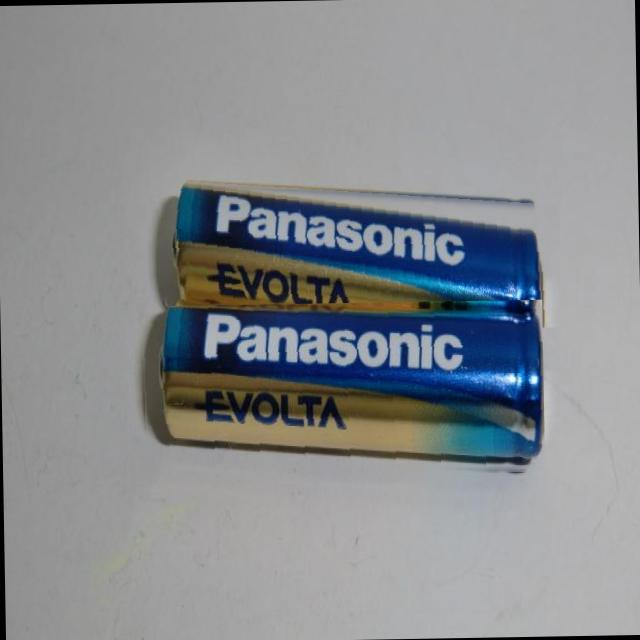Hazard: (140, 299, 545, 486), (157, 172, 562, 334)
